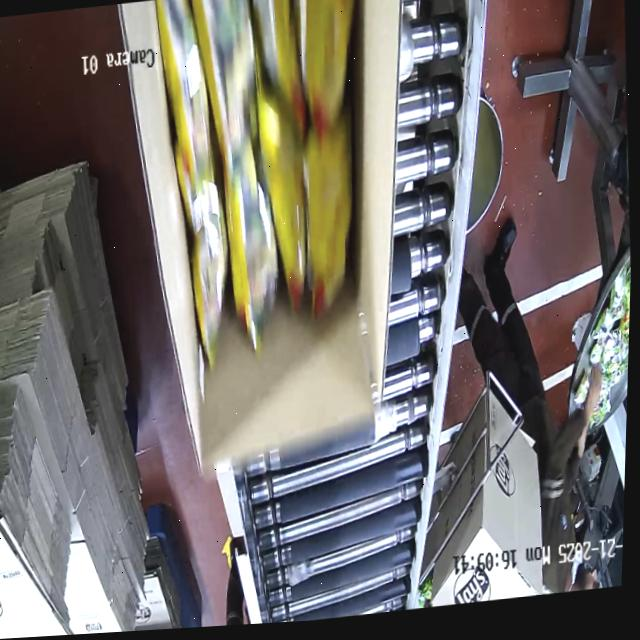SALTED: (122, 0, 377, 361)
